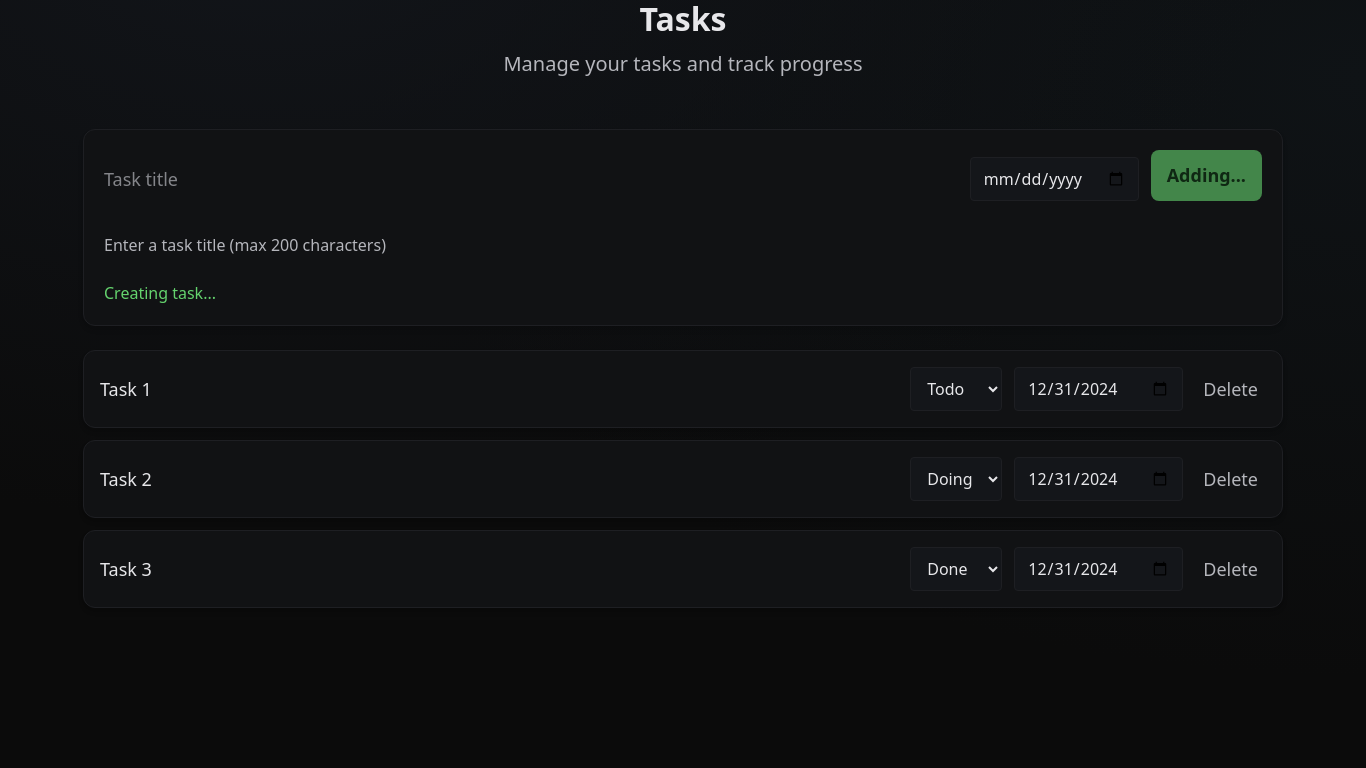
Test: TasksPage › Delete Task › shows confirmation modal when delete button is clicked
Click the 1st button "Delete" at (1231, 389), box [1195, 368, 1266, 411]
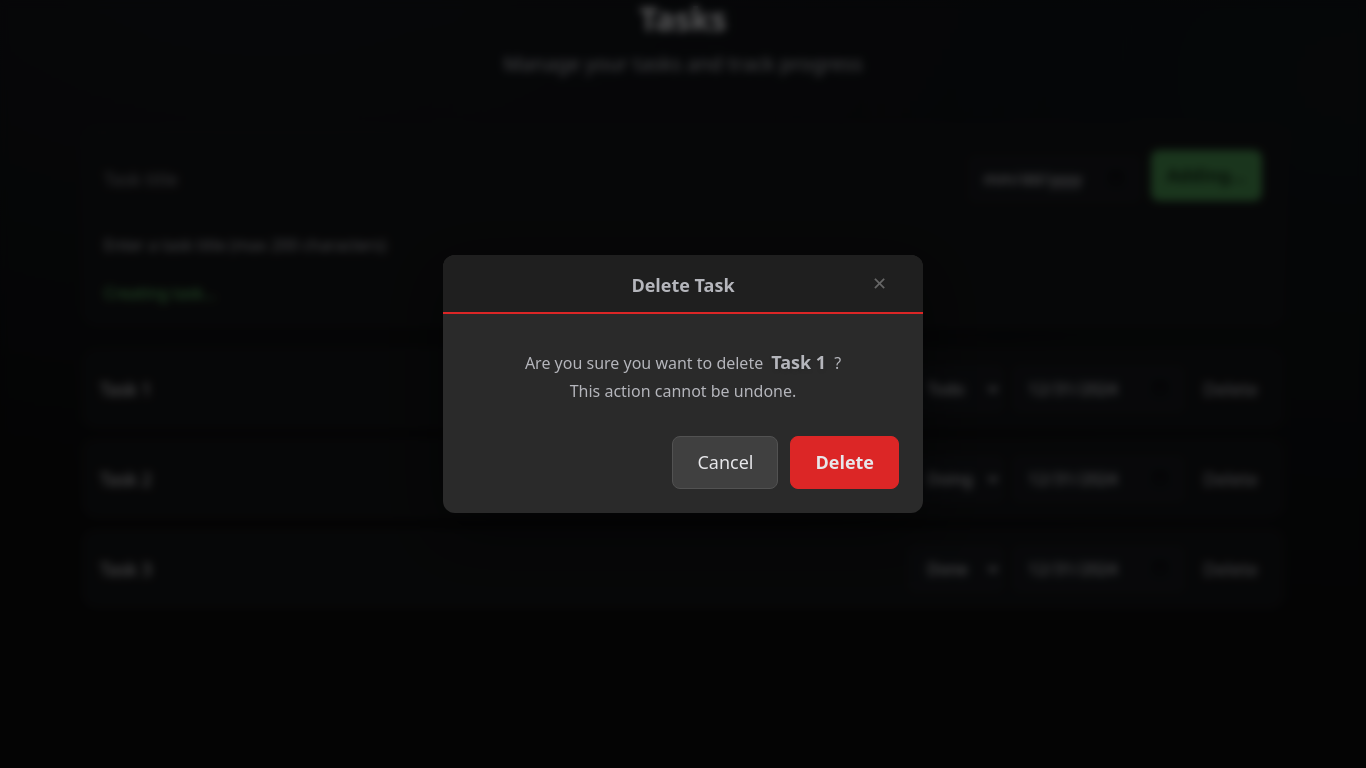
Now the heading "Delete Task" is shown, box [631, 274, 735, 296]
Now the text "Are you sure you want to delete" is shown, box [525, 352, 763, 374]
Now the text "Task 1" is shown, box [765, 346, 832, 379]
